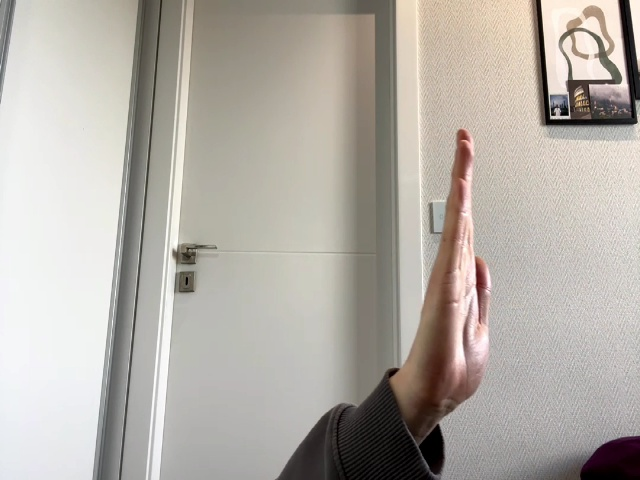SZ: (418, 130, 491, 410)
